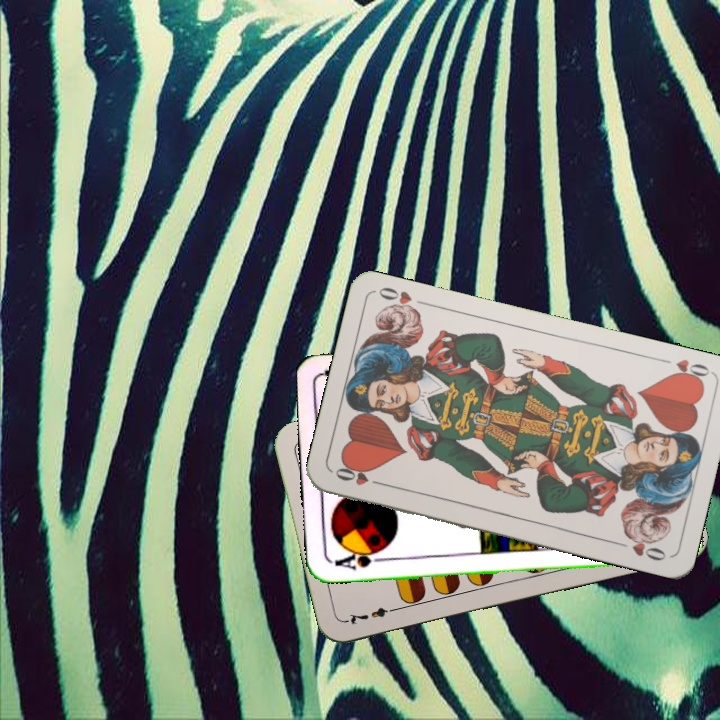E7: (342, 603, 400, 628)
HO: (331, 462, 388, 489), (665, 355, 714, 386)
SA: (327, 546, 386, 573)
